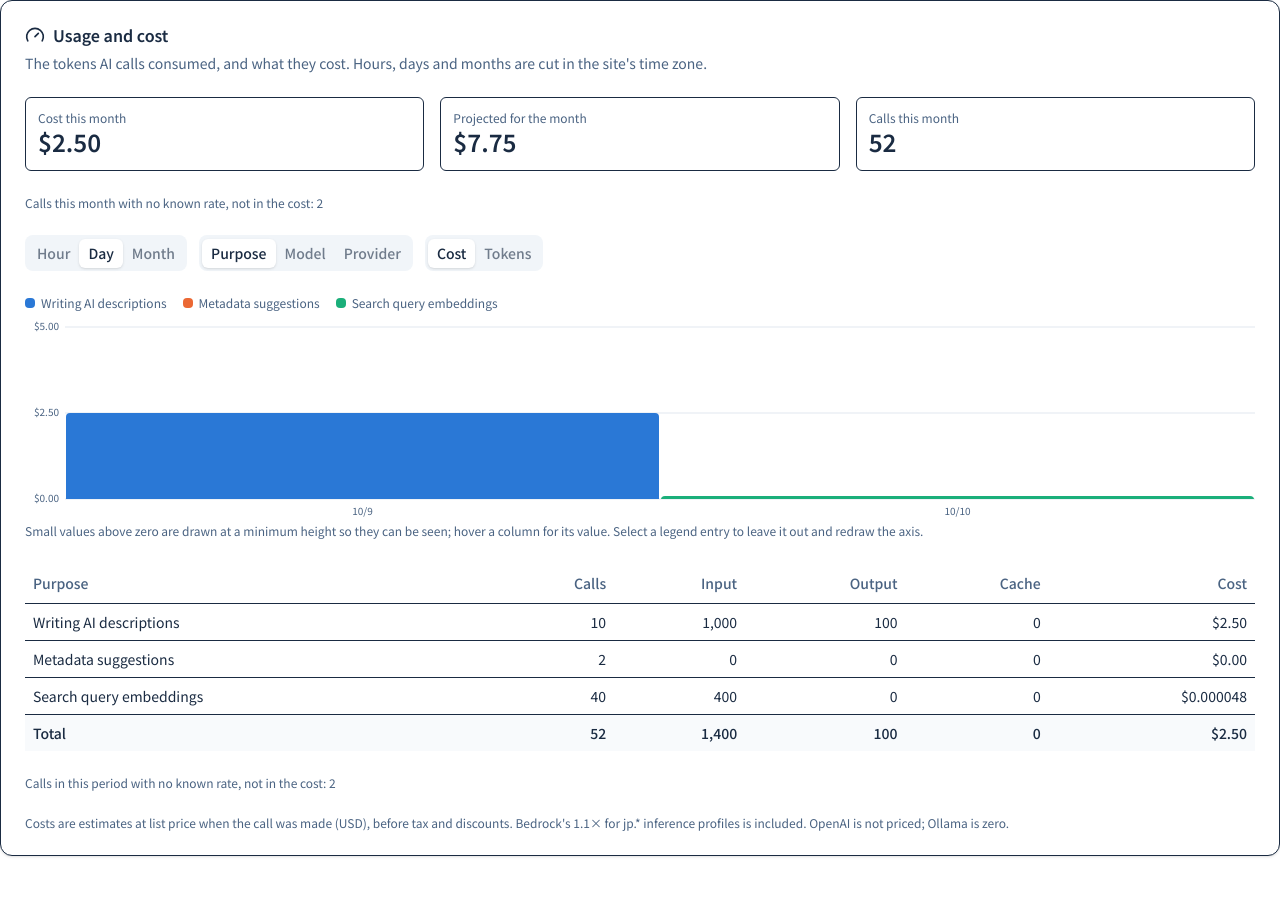
Scenario: AiUsageCard with series hidden in the legend › draws every series again when the new data has only hidden ones
Click the button "Writing AI descriptions" at (96, 303), box [25, 295, 167, 311]
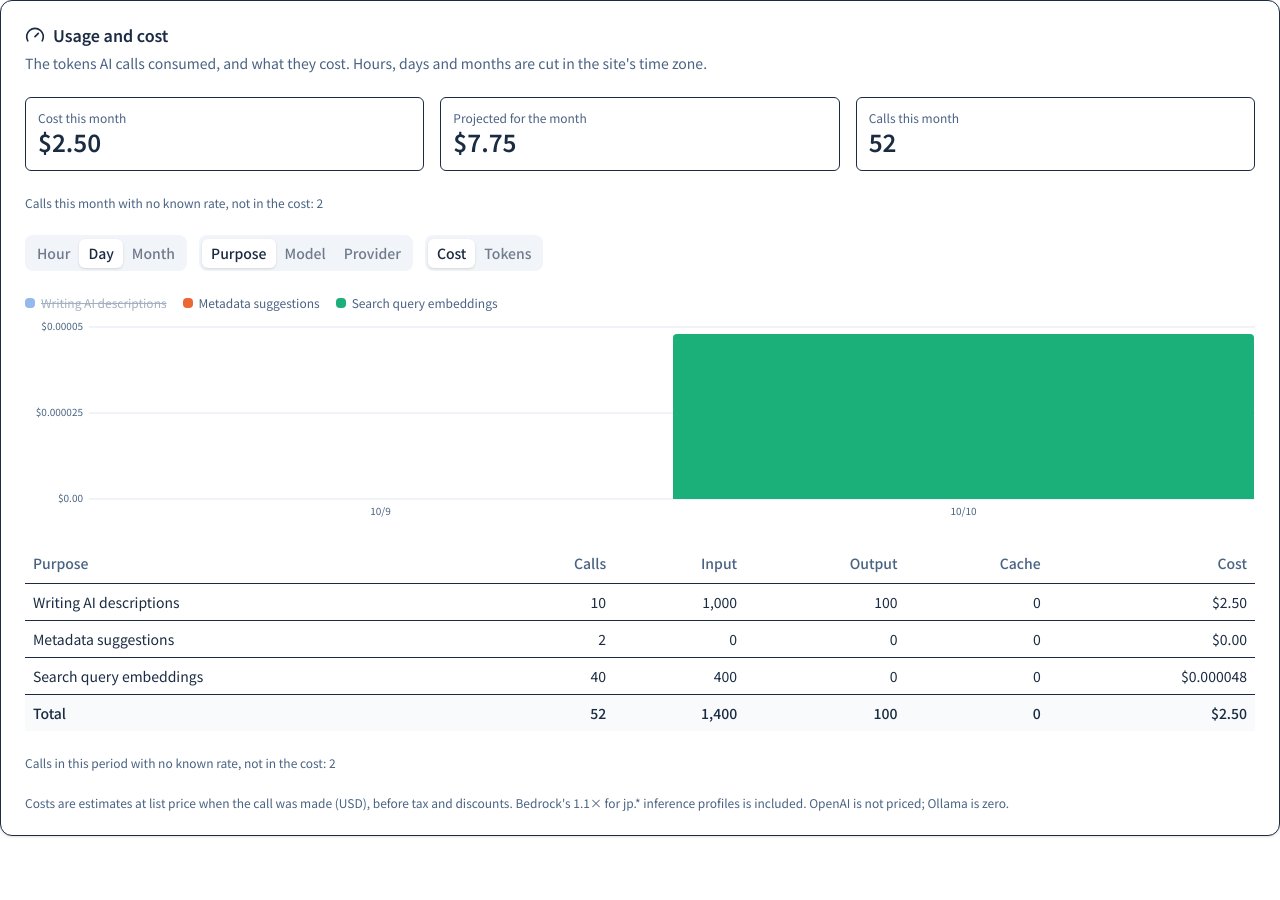
Press the mouse on the tab "Hour" at (54, 253), box [28, 238, 79, 268]
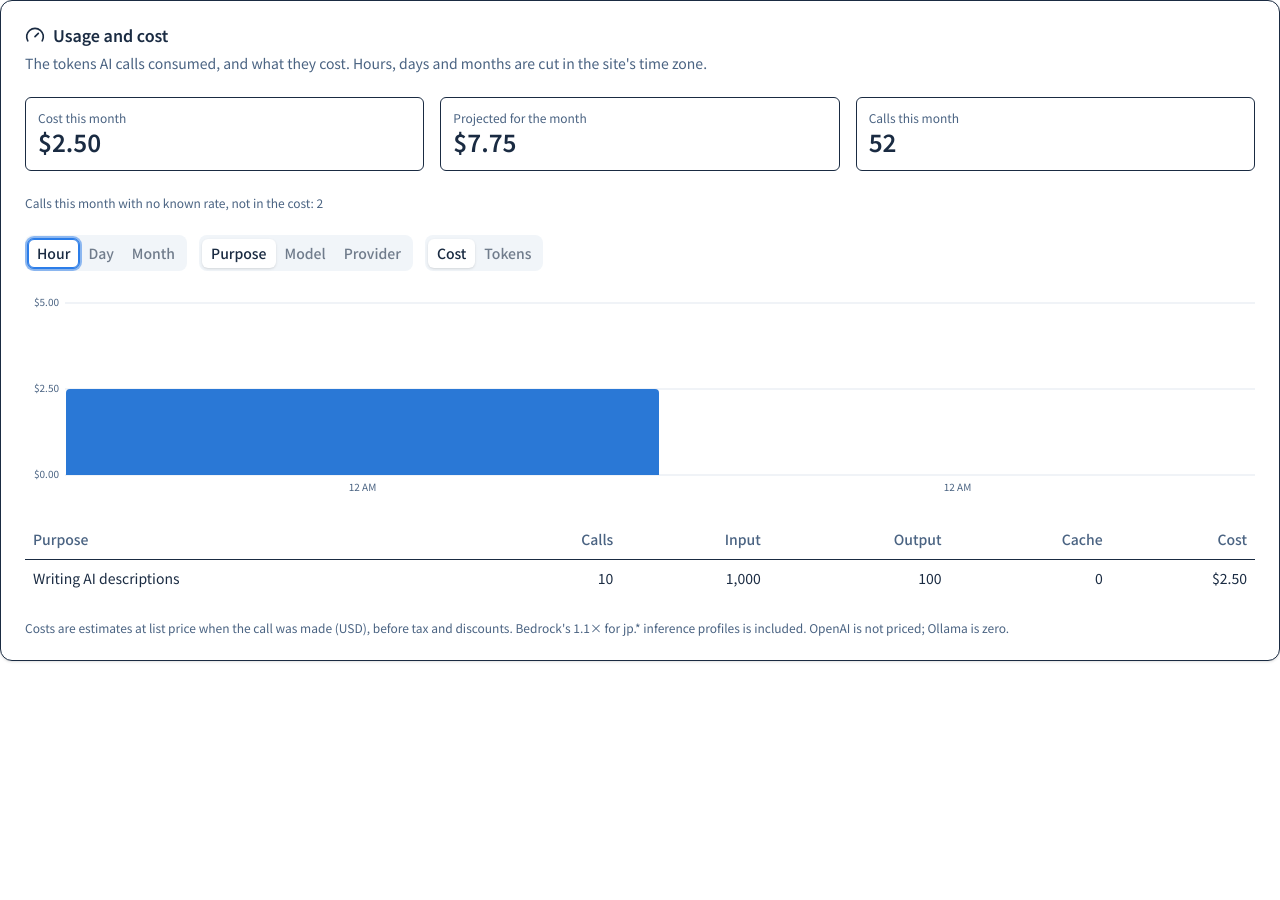
Now the button "Search query embeddings" is gone
